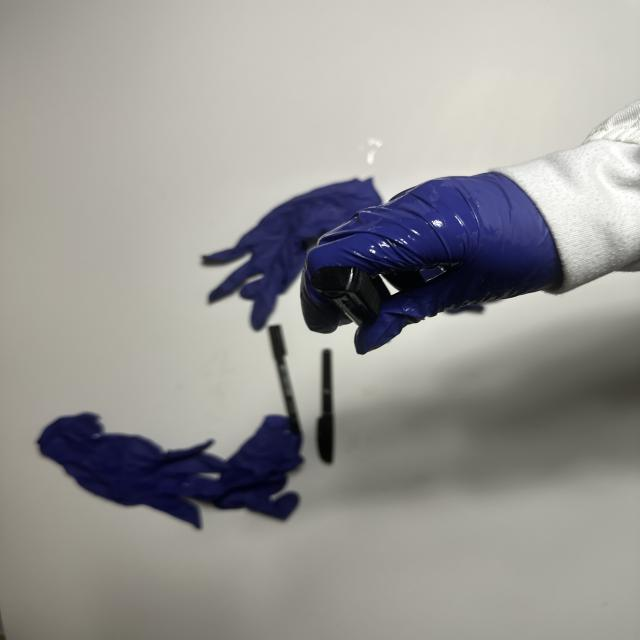gloves_contaminated: (301, 172, 563, 354)
